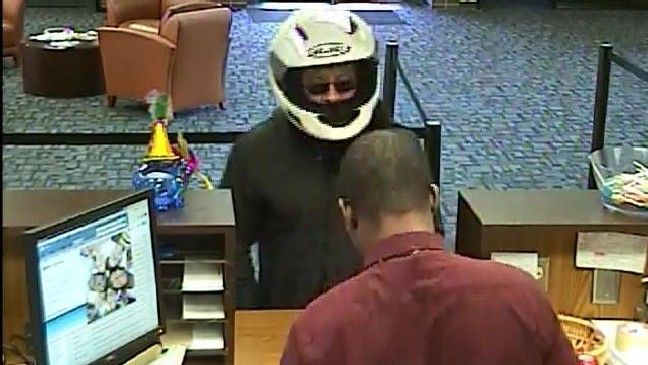helmet: (247, 4, 402, 137)
